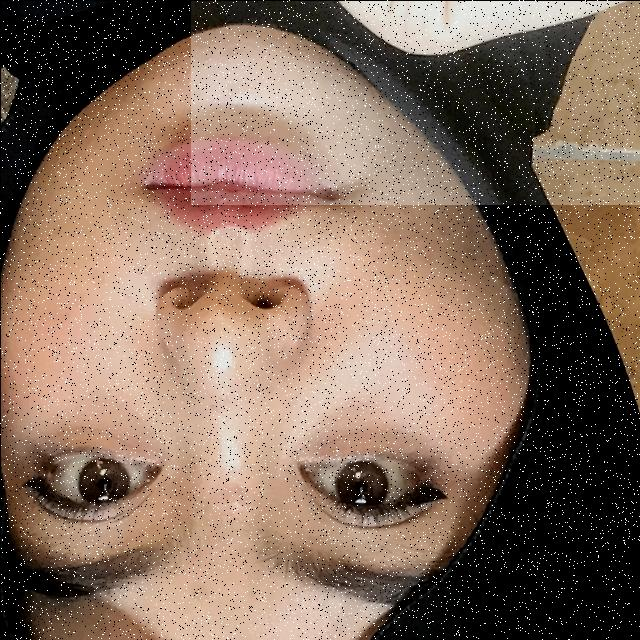sedih: (190, 0, 640, 204)
